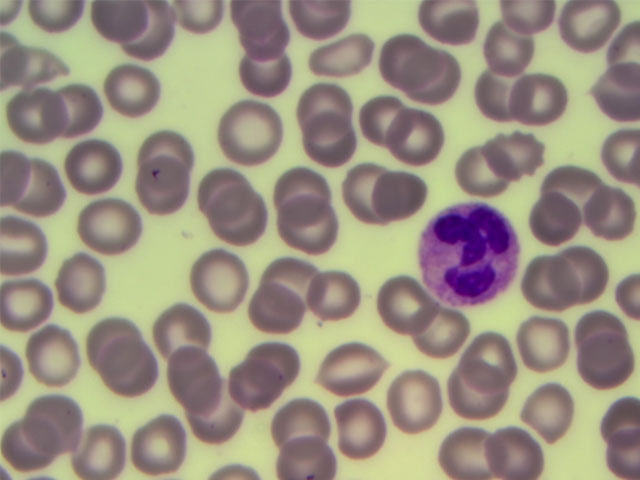RBC: (482, 418, 542, 480), (447, 418, 507, 480), (102, 59, 162, 120), (48, 73, 108, 134), (10, 84, 70, 145), (8, 146, 68, 207), (60, 133, 120, 194), (78, 196, 138, 257), (51, 238, 111, 299), (3, 278, 63, 339), (23, 329, 83, 390), (24, 389, 84, 450), (77, 416, 137, 477), (129, 409, 189, 470), (157, 348, 217, 409), (145, 295, 205, 356), (100, 339, 160, 400), (79, 302, 139, 363), (130, 154, 190, 215), (151, 117, 211, 178), (213, 99, 273, 160), (238, 40, 298, 101), (241, 5, 301, 66), (115, 4, 175, 65), (316, 30, 376, 91), (362, 27, 422, 88), (419, 44, 479, 105), (296, 75, 356, 136), (302, 120, 362, 181), (189, 161, 249, 222), (210, 191, 270, 252), (277, 196, 337, 257), (270, 153, 330, 214), (383, 161, 443, 222), (338, 164, 398, 225), (391, 103, 451, 164), (358, 93, 418, 154), (440, 144, 500, 205), (486, 126, 546, 187), (512, 70, 572, 131), (462, 62, 522, 123), (484, 25, 544, 86), (580, 52, 640, 113), (542, 152, 602, 213), (527, 188, 587, 249), (580, 182, 640, 243), (559, 245, 619, 306), (515, 253, 575, 314), (517, 307, 577, 368), (566, 304, 626, 365), (579, 345, 639, 406), (524, 382, 584, 443), (438, 376, 498, 437), (458, 336, 518, 397), (416, 294, 476, 355), (375, 275, 435, 336), (320, 334, 380, 395), (395, 369, 455, 430), (328, 393, 388, 454), (272, 388, 332, 449), (221, 354, 281, 415), (258, 329, 318, 390), (245, 278, 305, 339), (270, 249, 330, 310), (313, 259, 373, 320), (197, 254, 257, 315), (186, 379, 246, 440), (566, 1, 626, 61), (1, 406, 60, 467)
WBC: (417, 200, 515, 313)
